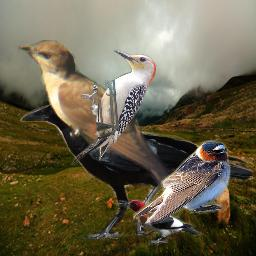Crow: (20, 98, 253, 239)
Cuckoo: (18, 40, 177, 197)
Swallow: (133, 140, 231, 227)
Woodpecker: (71, 48, 158, 165), (116, 198, 202, 246)
